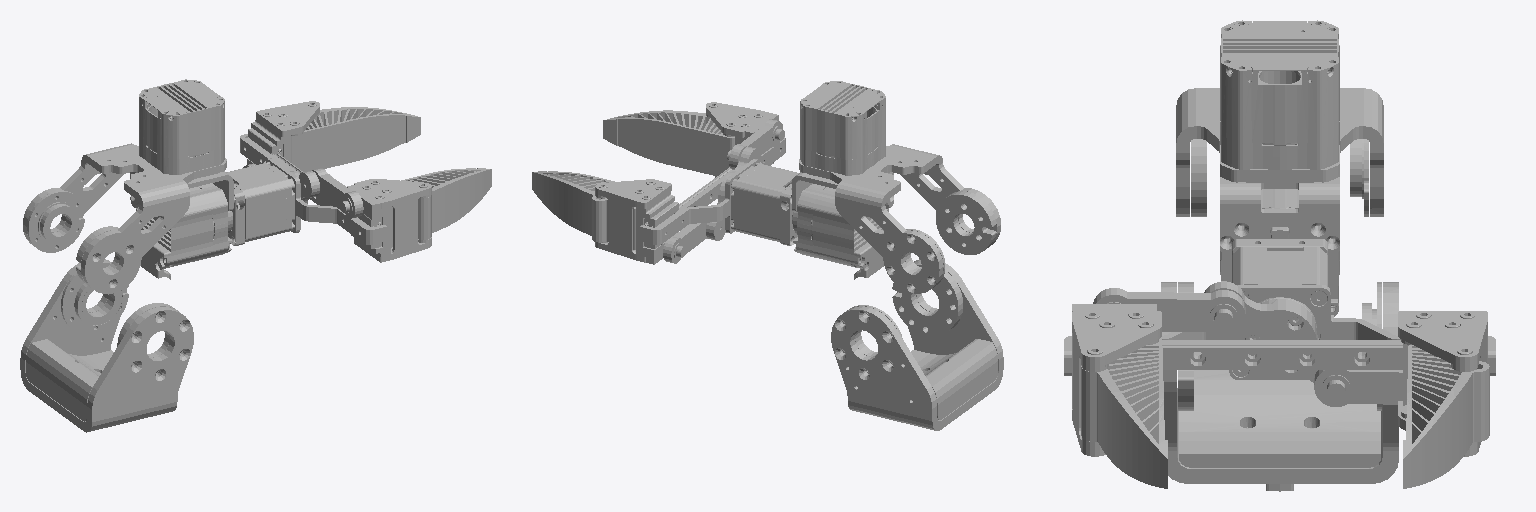
URDF robot description (Panthera-HT_description):
<?xml version="1.0" encoding="utf-8"?>
 <!-- This URDF was automatically created by SolidWorks to URDF Exporter! Originally created by [author] ([email redacted]) 
      Commit Version: 1.6.0-4-g7f85cfe  Build Version: 1.6.7995.38578
      For more information, please see http://wiki.ros.org/sw_urdf_exporter -->
 <robot name="Panthera-HT_description">
  <mujoco>
    <compiler meshdir="../meshes/" balanceinertia="true" discardvisual="false" />
  </mujoco>

   <link name="base_link">
     <inertial>
       <origin xyz="5.789e-05 -0.00015938 0.02298649" rpy="0 0 0" />
       <mass value="0.62922454" />
       <inertia ixx="0.00061305" ixy="-1.32e-06" ixz="1.69e-06" iyy="0.00063876" iyz="-2.1e-07" izz="0.0007565" />
     </inertial>
     <visual>
       <origin xyz="0 0 0" rpy="0 0 0" />
       <geometry>
         <mesh filename="package://Panthera-HT_description/meshes/base_link.STL" />
       </geometry>
       <material name="">
         <color rgba="0.752941176470588 0.752941176470588 0.752941176470588 1" />
       </material>
     </visual>
     <collision>
       <origin xyz="0 0 0" rpy="0 0 0" />
       <geometry>
         <mesh filename="package://Panthera-HT_description/meshes/base_link.STL" />
       </geometry>
     </collision>
   </link>
   <link name="link1">
     <inertial>
       <origin xyz="0.00278873 -0.00094387 0.02491842" rpy="0 0 0" />
       <mass value="0.28101551" />
       <inertia ixx="0.00039386" ixy="3.75e-06" ixz="-3.733e-05" iyy="0.0002136" iyz="7.17e-06" izz="0.00037066" />
     </inertial>
     <visual>
       <origin xyz="0 0 0" rpy="0 0 0" />
       <geometry>
         <mesh filename="package://Panthera-HT_description/meshes/link1.STL" />
       </geometry>
       <material name="">
         <color rgba="0.752941176470588 0.752941176470588 0.752941176470588 1" />
       </material>
     </visual>
     <collision>
       <origin xyz="0 0 0" rpy="0 0 0" />
       <geometry>
         <mesh filename="package://Panthera-HT_description/meshes/link1.STL" />
       </geometry>
     </collision>
   </link>
   <joint name="joint1" type="revolute">
     <origin xyz="0 0 0.0584" rpy="0 0 0" />
     <parent link="base_link" />
     <child link="link1" />
     <axis xyz="0 0 1" />
     <limit lower="-2.4" upper="2.4" effort="21" velocity="4.2" />
   </joint>
   <link name="link2">
     <inertial>
       <origin xyz="-0.12936212 -0.00213339 7.183e-05" rpy="0 0 0" />
       <mass value="1.5165092" />
       <inertia ixx="0.00044711" ixy="3.071e-05" ixz="-5.119e-05" iyy="0.02261049" iyz="3.01e-06" izz="0.02272105" />
     </inertial>
     <visual>
       <origin xyz="0 0 0" rpy="0 0 0" />
       <geometry>
         <mesh filename="package://Panthera-HT_description/meshes/link2.STL" />
       </geometry>
       <material name="">
         <color rgba="0.752941176470588 0.752941176470588 0.752941176470588 1" />
       </material>
     </visual>
     <collision>
       <origin xyz="0 0 0" rpy="0 0 0" />
       <geometry>
         <mesh filename="package://Panthera-HT_description/meshes/link2.STL" />
       </geometry>
     </collision>
   </link>
   <joint name="joint2" type="revolute">
     <origin xyz="0.018199 0 0.053" rpy="0 0 0" />
     <parent link="link1" />
     <child link="link2" />
     <axis xyz="0 1 0" />
     <limit lower="0.0" upper="3.2" effort="36" velocity="5" />
   </joint>
   <link name="link3">
     <inertial>
       <origin xyz="0.16343103 -0.00164646 0.05337427" rpy="0 0 0" />
       <mass value="0.66917784" />
       <inertia ixx="0.00061339" ixy="-1.439e-05" ixz="-0.00070321" iyy="0.00538615" iyz="-1.404e-05" izz="0.00532976" />
     </inertial>
     <visual>
       <origin xyz="0 0 0" rpy="0 0 0" />
       <geometry>
         <mesh filename="package://Panthera-HT_description/meshes/link3.STL" />
       </geometry>
       <material name="">
         <color rgba="0.752941176470588 0.752941176470588 0.752941176470588 1" />
       </material>
     </visual>
     <collision>
       <origin xyz="0 0 0" rpy="0 0 0" />
       <geometry>
         <mesh filename="package://Panthera-HT_description/meshes/link3.STL" />
       </geometry>
     </collision>
   </link>
   <joint name="joint3" type="revolute">
     <origin xyz="-0.26 0 0" rpy="0 0 0" />
     <parent link="link2" />
     <child link="link3" />
     <axis xyz="0 -1 0" />
     <limit lower="0.0" upper="4.0" effort="36" velocity="5" />
   </joint>
   <link name="link4">
     <inertial>
       <origin xyz="0.05240131 -0.00055249 0.04094177" rpy="0 0 0" />
       <mass value="0.30780516" />
       <inertia ixx="0.00025787" ixy="-1.011e-05" ixz="-0.00017337" iyy="0.00039454" iyz="-8.09e-06" izz="0.00035094" />
     </inertial>
     <visual>
       <origin xyz="0 0 0" rpy="0 0 0" />
       <geometry>
         <mesh filename="package://Panthera-HT_description/meshes/link4.STL" />
       </geometry>
       <material name="">
         <color rgba="0.752941176470588 0.752941176470588 0.752941176470588 1" />
       </material>
     </visual>
     <collision>
       <origin xyz="0 0 0" rpy="0 0 0" />
       <geometry>
         <mesh filename="package://Panthera-HT_description/meshes/link4.STL" />
       </geometry>
     </collision>
   </link>
   <joint name="joint4" type="revolute">
     <origin xyz="0.23 0 0.06" rpy="0 0 0" />
     <parent link="link3" />
     <child link="link4" />
     <axis xyz="0 -1 0" />
     <limit lower="-1.6" upper="1.6" effort="21" velocity="4.2" />
   </joint>
   <link name="link5">
     <inertial>
       <origin xyz="0.00303007 8.509e-05 -0.03624079" rpy="0 0 0" />
       <mass value="0.23711139" />
       <inertia ixx="4.815e-05" ixy="-3e-08" ixz="-1.5e-07" iyy="5.773e-05" iyz="-1e-08" izz="3.359e-05" />
     </inertial>
     <visual>
       <origin xyz="0 0 0" rpy="0 0 0" />
       <geometry>
         <mesh filename="package://Panthera-HT_description/meshes/link5.STL" />
       </geometry>
       <material name="">
         <color rgba="0.752941176470588 0.752941176470588 0.752941176470588 1" />
       </material>
     </visual>
     <collision>
       <origin xyz="0 0 0" rpy="0 0 0" />
       <geometry>
         <mesh filename="package://Panthera-HT_description/meshes/link5.STL" />
       </geometry>
     </collision>
   </link>
   <joint name="joint5" type="revolute">
     <origin xyz="0.07 0 0.036319" rpy="0 0 0" />
     <parent link="link4" />
     <child link="link5" />
     <axis xyz="0 0 -1" />
     <limit lower="-1.7" upper="1.7" effort="10" velocity="3.7" />
   </joint>
   <link name="link6">
     <inertial>
       <origin xyz="0.06704625 0.00051731 1.674e-05" rpy="0 0 0" />
       <mass value="0.30" />
       <inertia ixx="0.00107368" ixy="-1.25e-05" ixz="3e-07" iyy="0.00068998" iyz="2.517e-05" izz="0.00167551" />
     </inertial>
     <visual>
       <origin xyz="0 0 0" rpy="0 0 0" />
       <geometry>
         <mesh filename="package://Panthera-HT_description/meshes/link6.STL" />
       </geometry>
       <material name="">
         <color rgba="0.752941176470588 0.752941176470588 0.752941176470588 1" />
       </material>
     </visual>
     <collision>
       <origin xyz="0 0 0" rpy="0 0 0" />
       <geometry>
         <mesh filename="package://Panthera-HT_description/meshes/link6.STL" />
       </geometry>
     </collision>
   </link>
   <joint name="joint6" type="revolute">
     <origin xyz="0.02345 0 -0.039" rpy="0 0 0" />
     <parent link="link5" />
     <child link="link6" />
     <axis xyz="1 0 0" />
     <limit lower="-2.5" upper="2.5" effort="10" velocity="3.7" />
   </joint>
 </robot>

--- What the picture shows (computed from the rendered views, not written in the file) ---
The picture shows the robot from 3 angles, left to right: view 1: azimuth 30°, elevation 25°; view 2: azimuth 150°, elevation 25°; view 3: azimuth 270°, elevation 25°; orthographic projection.
Model Panthera-HT_description with 7 links and 6 joints (6 revolute), rooted at base_link, posed every joint at zero.
Visible links, largest first — view 1: link6, link4, link1, link5; view 2: link6, link4, link1, link5; view 3: link6, link4, link1, link5.
Link boxes in pixels (bbox=[...]): link6: bbox=[226, 101, 491, 262]; link4: bbox=[23, 79, 226, 293]; link1: bbox=[20, 259, 193, 432]; link5: bbox=[130, 171, 233, 279]; link6: bbox=[532, 102, 798, 264]; link4: bbox=[799, 81, 1000, 293]; link1: bbox=[831, 259, 1003, 430]; link5: bbox=[792, 172, 893, 279]; link6: bbox=[1064, 227, 1495, 488]; link4: bbox=[1176, 20, 1383, 216]; link1: bbox=[1161, 282, 1398, 491]; link5: bbox=[1220, 177, 1339, 317].
Bounding box of the posed robot: 0.2835 × 0.158 × 0.1927 m (x, y, z).
4 mesh visuals loaded from 7 distinct referenced files (4 binary STL); not drawn: 3 (reference not matched to a file when rendering).